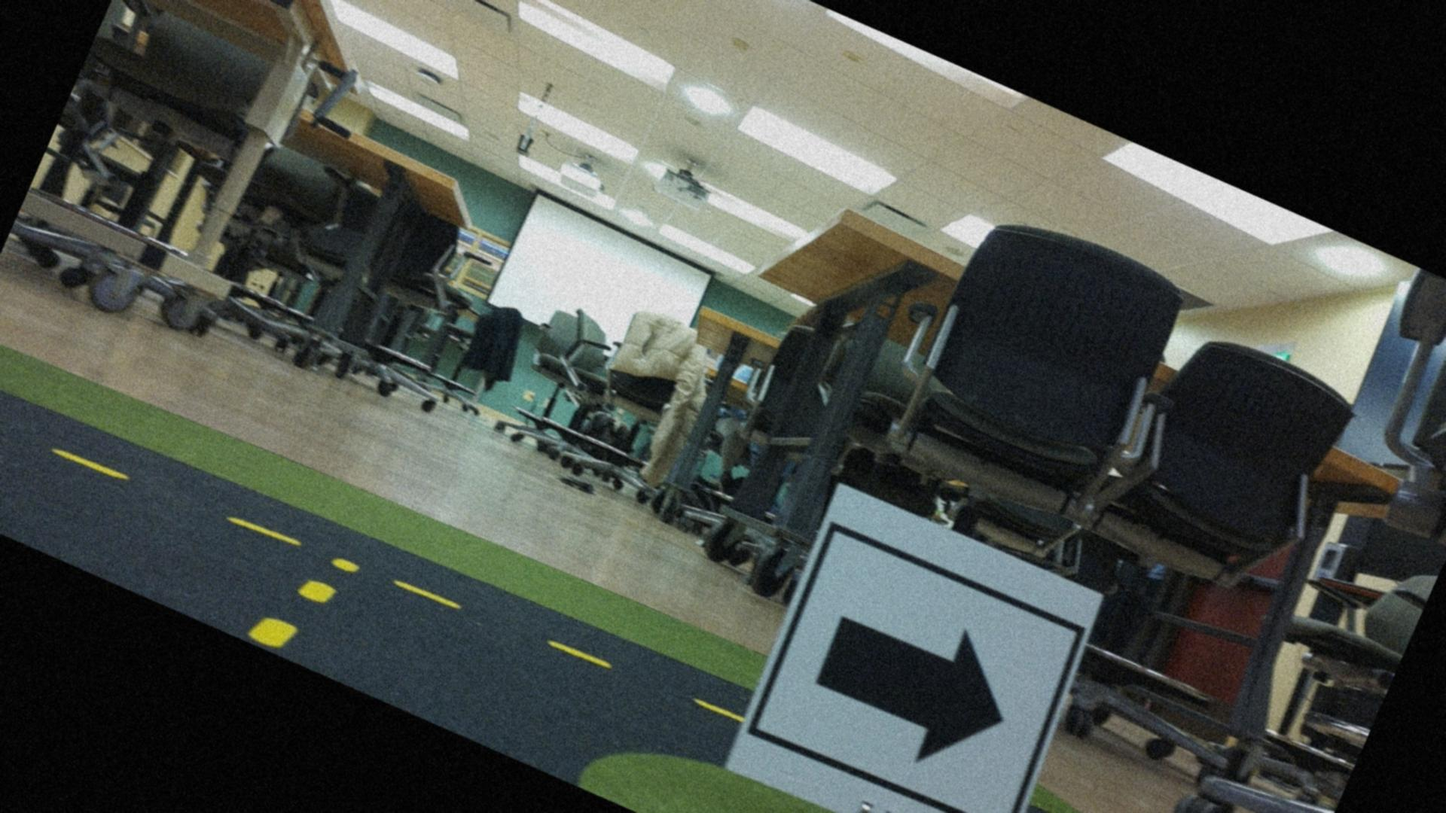turnleft: (728, 489, 1097, 812)
yellowline: (0, 368, 738, 748), (249, 562, 334, 660)
